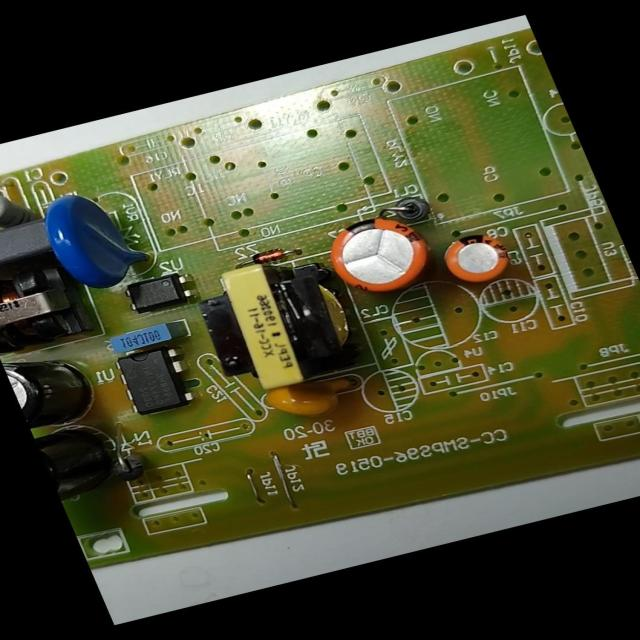Cap1: (318, 210, 442, 302)
Cap2: (433, 224, 520, 289)
Cap3: (0, 342, 101, 432)
Cap4: (34, 420, 131, 506)
MOSFET: (106, 343, 200, 420)
Mov: (30, 184, 150, 300)
Resistor: (0, 182, 37, 235)
Transformer: (180, 244, 378, 401), (0, 257, 93, 356)
